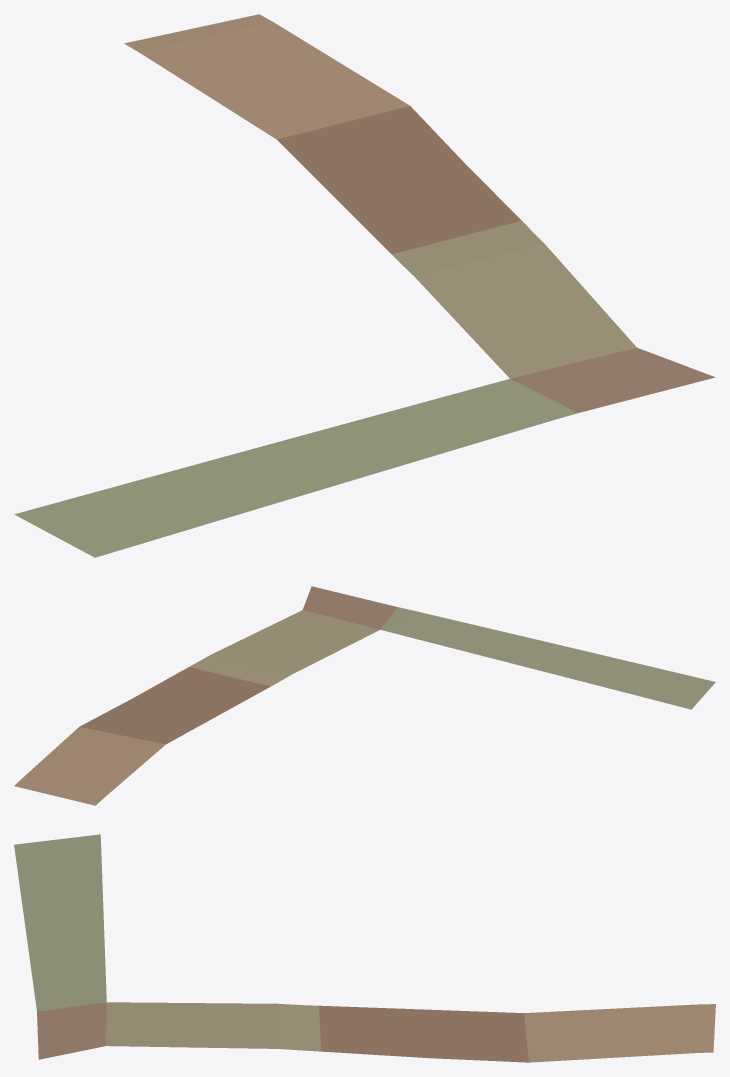
File: farm_34_24_soil.glb
3 renders of one model, top to bottom at view 1: azimuth 30°, elevation 25°; view 2: azimuth 150°, elevation 25°; view 3: azimuth 270°, elevation 25°, orthographic. The views are drawn at different scales.
Parts seen in each view (by area): view 1: geometry_0; view 2: geometry_0; view 3: geometry_0.
Boxes of the visible parts, left/top/right/bottom form: geometry_0: left=14, top=14, right=715, bottom=557; geometry_0: left=14, top=586, right=715, bottom=805; geometry_0: left=14, top=834, right=715, bottom=1062.
Bounding box in the file's own units: 110 × 4.7 × 134.
